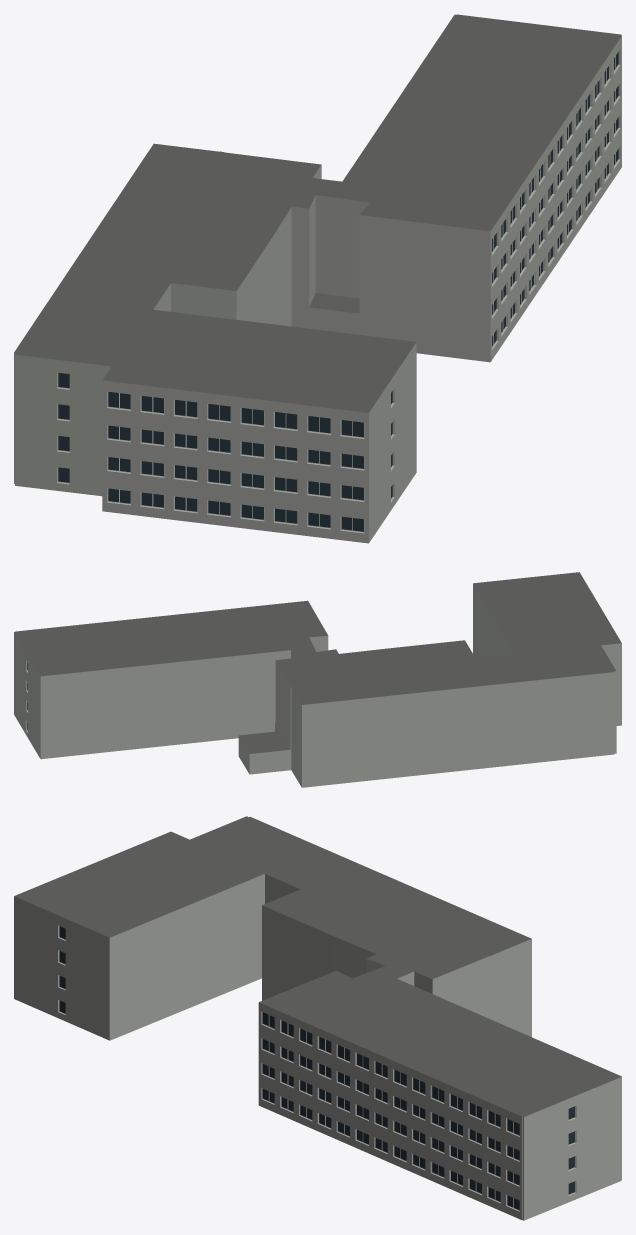
Rendered from recipe-large-ringslangpad-1-364-251618.glb.
3 views of the same model, one above another, from view 1: azimuth 30°, elevation 25°; view 2: azimuth 150°, elevation 25°; view 3: azimuth 270°, elevation 25° (orthographic). The views are drawn at different scales.
Visible parts, largest first — view 1: ringslangpad-1-364-251618; view 2: ringslangpad-1-364-251618; view 3: ringslangpad-1-364-251618.
Part boxes in pixels (bbox=[...]): ringslangpad-1-364-251618: bbox=[14, 14, 621, 543]; ringslangpad-1-364-251618: bbox=[14, 572, 621, 787]; ringslangpad-1-364-251618: bbox=[14, 816, 621, 1220].
Size of the model in its own units: 81.03 by 13.03 by 69.15.
